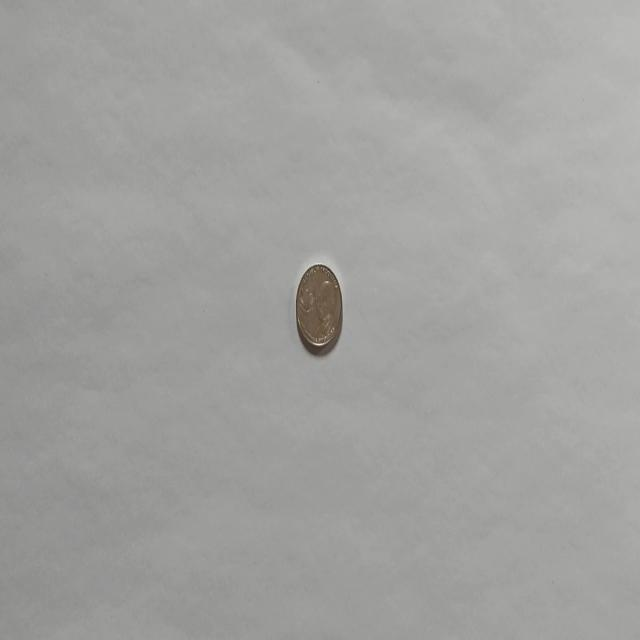lima ratus rupiah: (295, 261, 343, 354)
